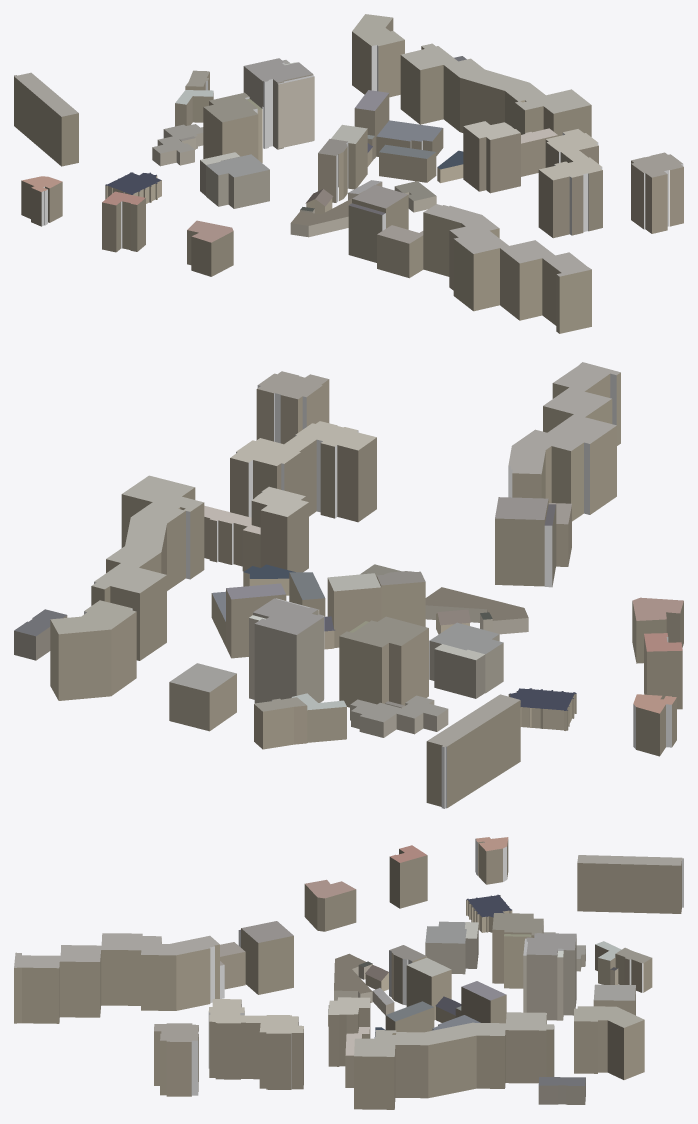
3 renders of one model, top to bottom at view 1: azimuth 30°, elevation 25°; view 2: azimuth 150°, elevation 25°; view 3: azimuth 270°, elevation 25°, orthographic. The views are drawn at different scales.
Visible parts, largest first — view 1: tuile; view 2: tuile; view 3: tuile.
Part boxes in pixels (x1,y1,x2,y2): tuile: (14, 14, 683, 333); tuile: (14, 362, 683, 808); tuile: (14, 837, 683, 1109).
Size of the model in its own units: 258 by 33.94 by 313.
